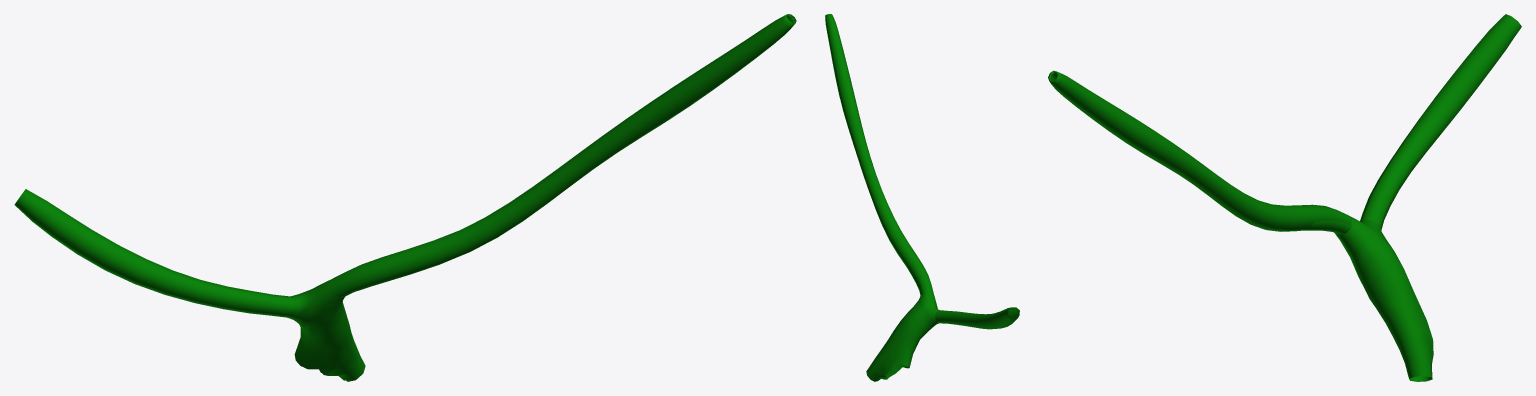
File: VH_F_Ducts_of_Liver.fbx
3 renders of one model, left to right at view 1: azimuth 30°, elevation 25°; view 2: azimuth 150°, elevation 25°; view 3: azimuth 270°, elevation 25°, orthographic. The views are drawn at different scales.
Parts seen in each view (by area): view 1: VH_F_left_hepatic_duct, VH_F_right_hepatic_duct, VH_F_common_hepatic_duct; view 2: VH_F_left_hepatic_duct, VH_F_common_hepatic_duct, VH_F_right_hepatic_duct; view 3: VH_F_left_hepatic_duct, VH_F_common_hepatic_duct, VH_F_right_hepatic_duct.
Part boxes in pixels (x1=…): VH_F_left_hepatic_duct: x1=326, y1=14, x2=796, y2=297; VH_F_right_hepatic_duct: x1=14, y1=189, x2=293, y2=317; VH_F_common_hepatic_duct: x1=287, y1=280, x2=365, y2=381; VH_F_left_hepatic_duct: x1=825, y1=14, x2=933, y2=295; VH_F_common_hepatic_duct: x1=866, y1=293, x2=939, y2=381; VH_F_right_hepatic_duct: x1=935, y1=307, x2=1019, y2=329; VH_F_left_hepatic_duct: x1=1048, y1=70, x2=1352, y2=234; VH_F_common_hepatic_duct: x1=1334, y1=216, x2=1433, y2=381; VH_F_right_hepatic_duct: x1=1360, y1=14, x2=1521, y2=229.
Bounding box in the file's own units: 3.58 × 2.67 × 2.6.
